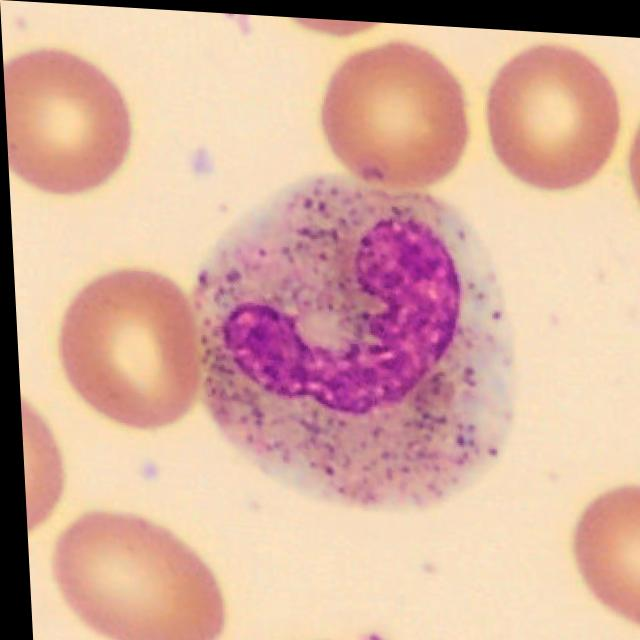Neutrofilo segmentado: (189, 168, 514, 510)
